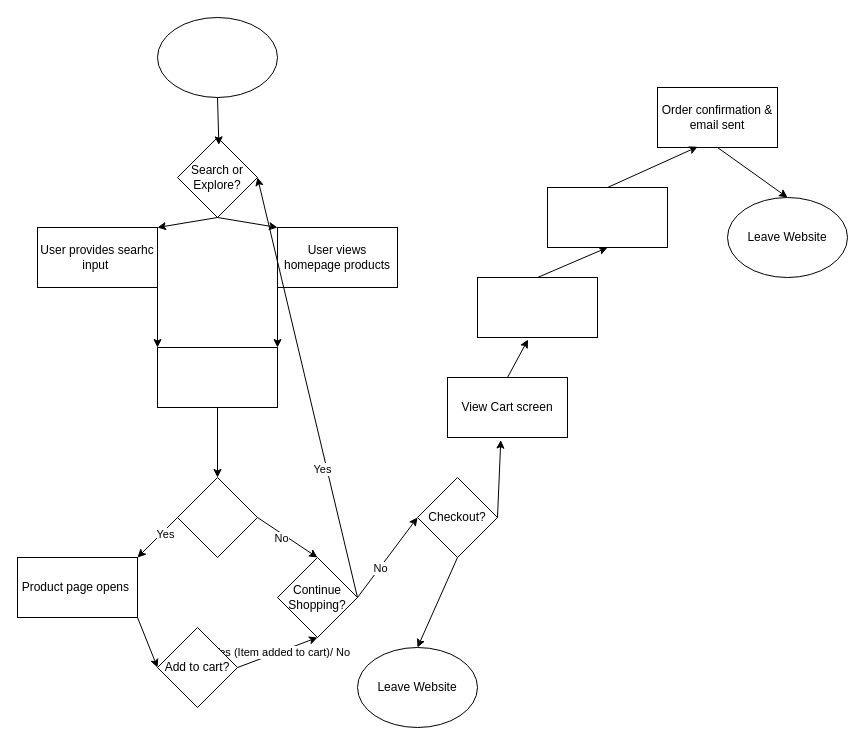
This 865x745 diagram has some shape labels left out. The centre of each missing label's shape, as x and y in pixels:
"Enter payment infor" belongs at pixel 607 217.
"User browses products" belongs at pixel 217 377.
"User enters website" belongs at pixel 217 57.
"View payment screen" belongs at pixel 537 307.
"View specific product?" belongs at pixel 217 517.
